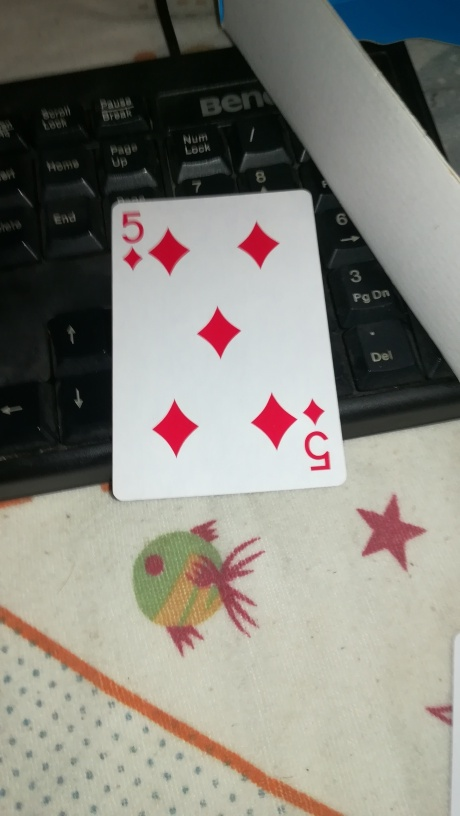fk 5: (106, 187, 352, 502)
